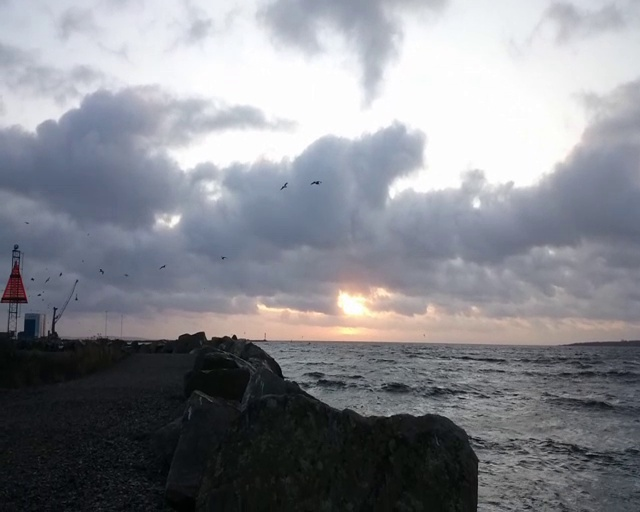BIRD: (280, 182, 288, 190)
